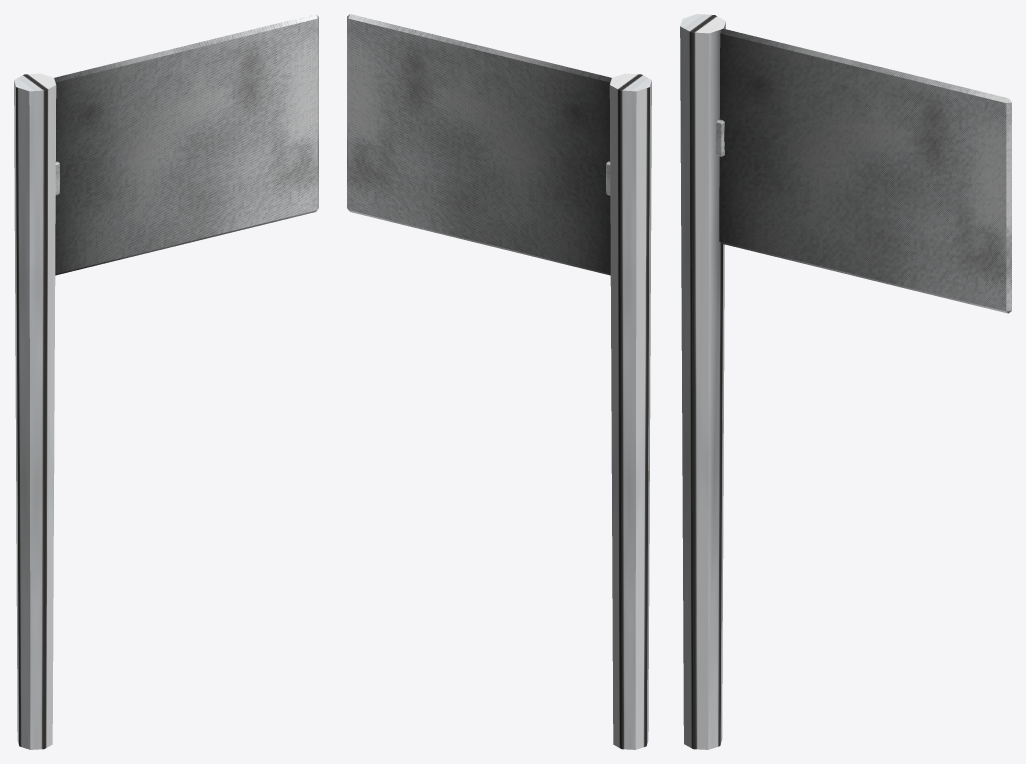
3 renders of one model, left to right at view 1: azimuth 30°, elevation 25°; view 2: azimuth 150°, elevation 25°; view 3: azimuth 330°, elevation 25°, orthographic. The views are drawn at different scales.
Parts seen in each view (by area): view 1: flag_M_cloth_team, flag_M_wood; view 2: flag_M_cloth_team, flag_M_wood; view 3: flag_M_cloth_team, flag_M_wood.
Part boxes in pixels (x1,y1,x2,y2): flag_M_cloth_team: (54, 14, 318, 275); flag_M_wood: (14, 73, 56, 749); flag_M_cloth_team: (347, 14, 611, 275); flag_M_wood: (609, 73, 651, 749); flag_M_cloth_team: (719, 29, 1011, 313); flag_M_wood: (680, 14, 725, 749).
Size of the model in its own units: 0.96 by 2 by 0.12.
3 materials, 3 textured.
